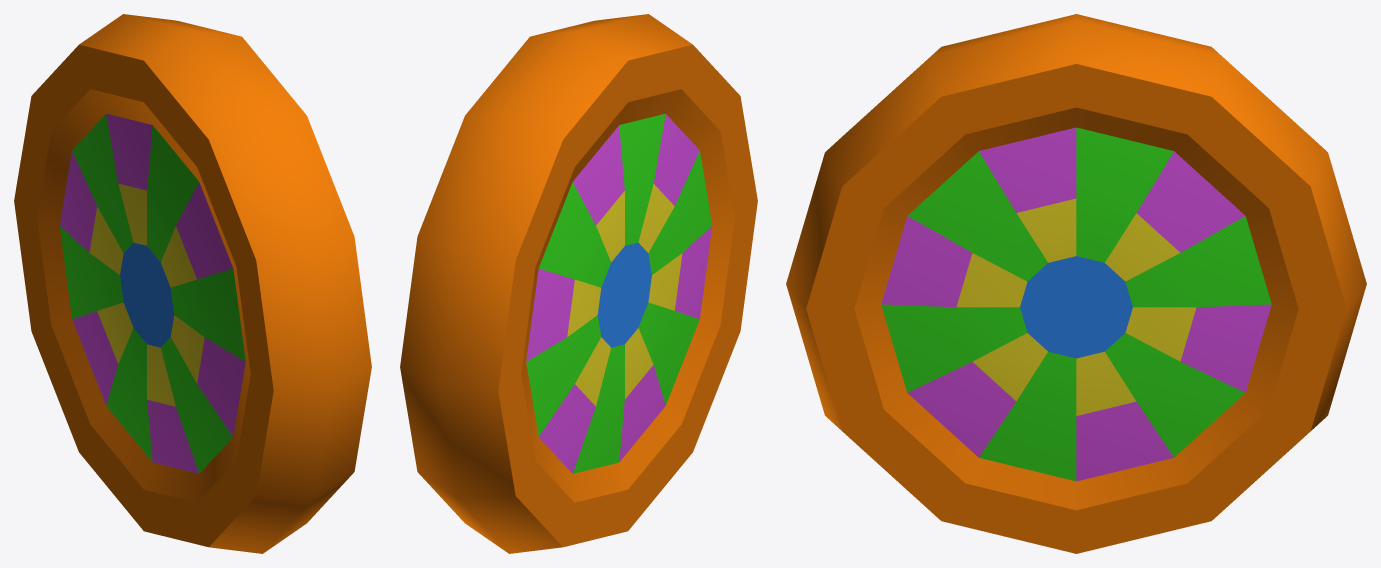
Rendered from wheel4.glb.
3 renders of one model, left to right at view 1: azimuth 30°, elevation 25°; view 2: azimuth 150°, elevation 25°; view 3: azimuth 270°, elevation 25°, orthographic. The views are drawn at different scales.
Visible parts, largest first — view 1: wheel_duck; view 2: wheel_duck; view 3: wheel_duck.
Part boxes in pixels (x1,y1,x2,y2): wheel_duck: [14, 14, 371, 553]; wheel_duck: [400, 14, 757, 553]; wheel_duck: [786, 14, 1366, 553].
Size of the model in its own units: 0.1026 by 0.5045 by 0.5045.
1 material, 1 textured.
